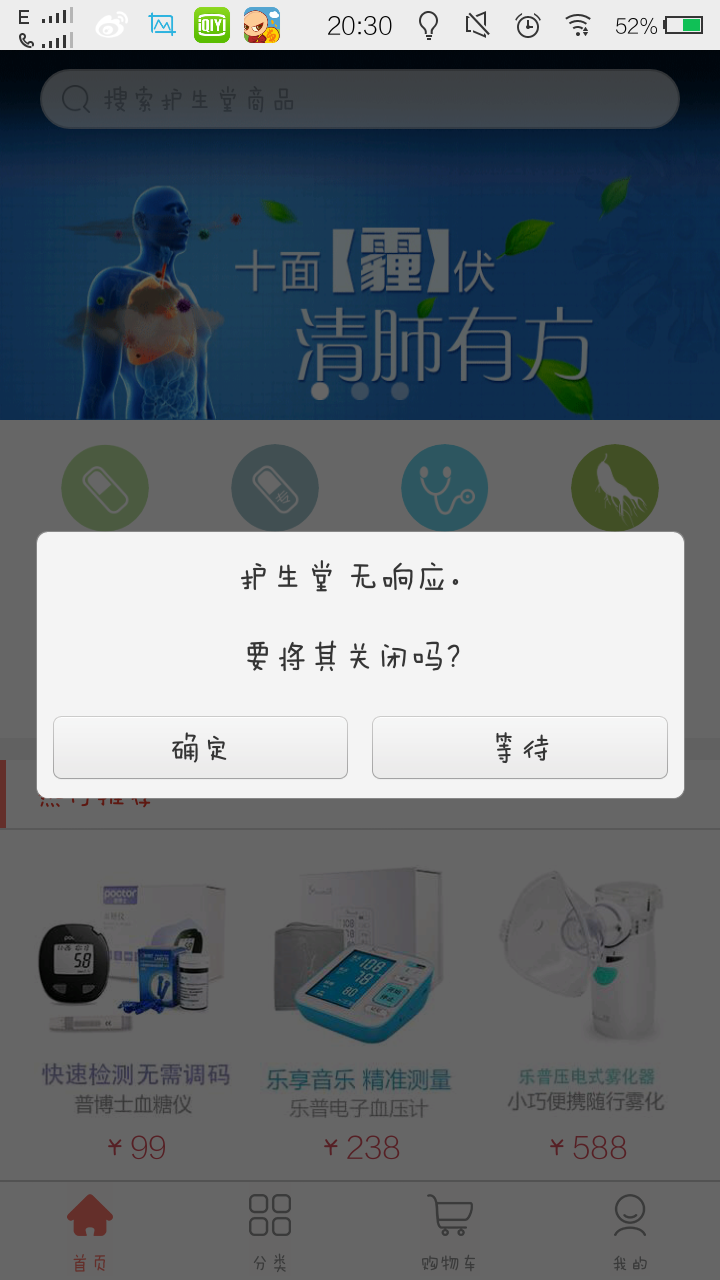alert: (32, 528, 690, 808)
button: (363, 712, 676, 787), (57, 717, 350, 777)
nav: (13, 1185, 720, 1277)
textview: (28, 67, 685, 139)
